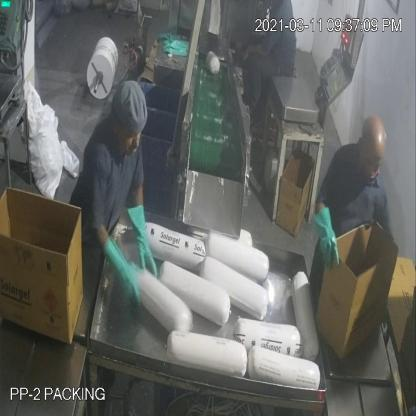glove: (99, 228, 144, 313), (129, 206, 165, 294), (312, 200, 344, 273)
